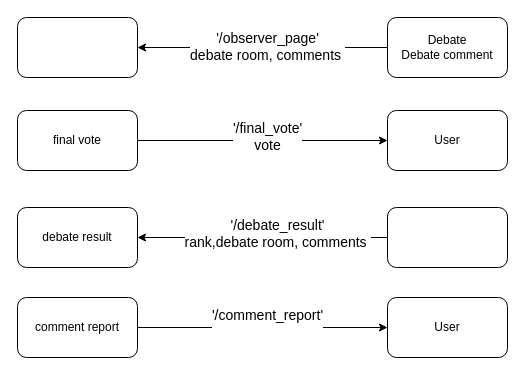
The diagram is 525 pixels wide and 375 high, and some of its shapes have lost their labels. Each missing label, with the centre of its shape:
"observer page" belongs at (77,47).
"user debate debate comment" belongs at (447,237).
